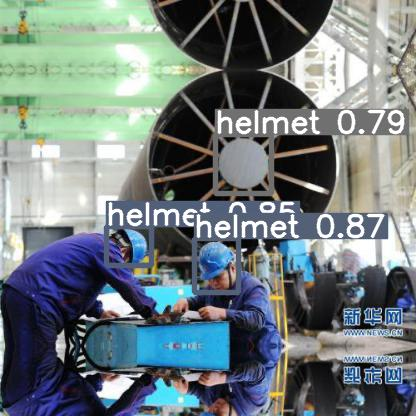helmet: (215, 134, 271, 193), (194, 238, 238, 292), (106, 226, 151, 265)
